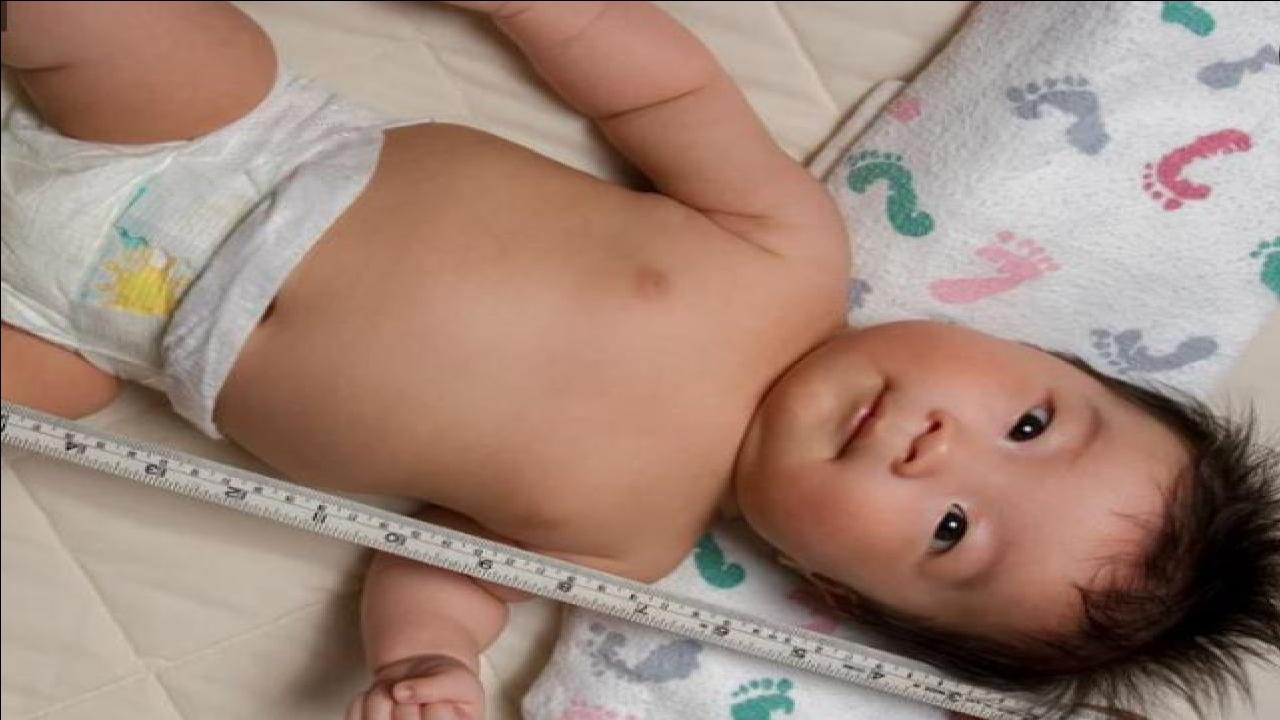hand: (336, 652, 502, 720)
